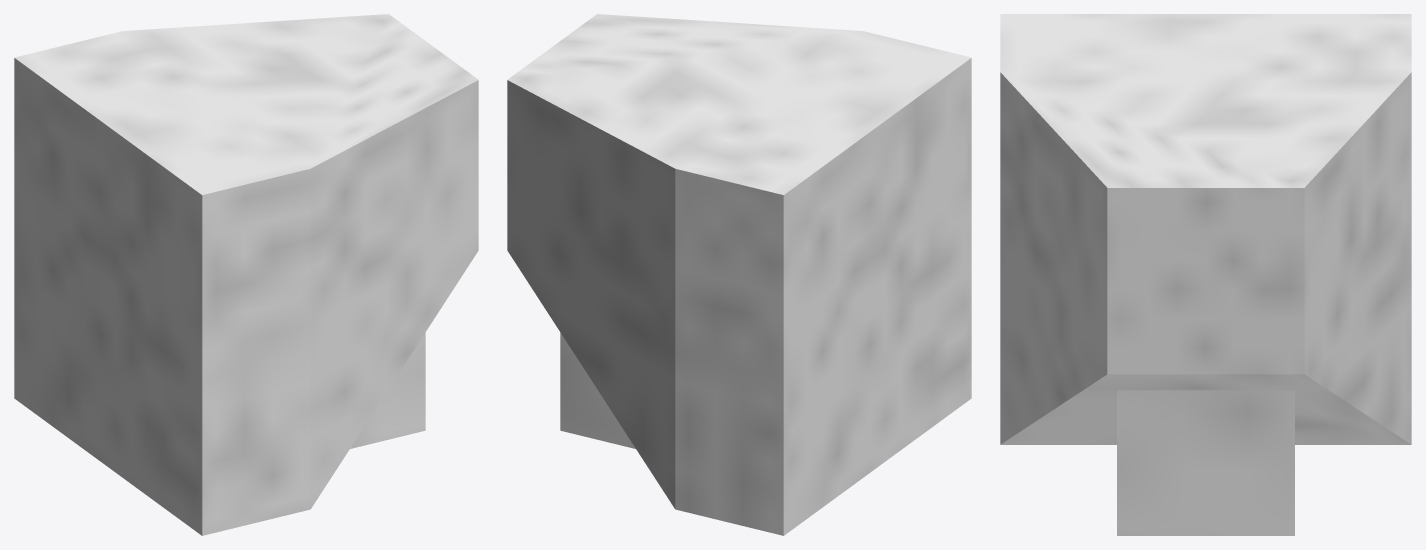
File: Computer.fbx
3 views of the same model, side by side, from view 1: azimuth 30°, elevation 25°; view 2: azimuth 150°, elevation 25°; view 3: azimuth 270°, elevation 25° (orthographic). The views are drawn at different scales.
Visible parts, largest first — view 1: computer2; view 2: computer2; view 3: computer2.
Part boxes in pixels (box(x1,y1,x2,y2)): computer2: box(14, 14, 478, 535); computer2: box(507, 14, 971, 535); computer2: box(1000, 14, 1411, 535).
Size of the model in its own units: 0.75 by 0.7527 by 0.75.
